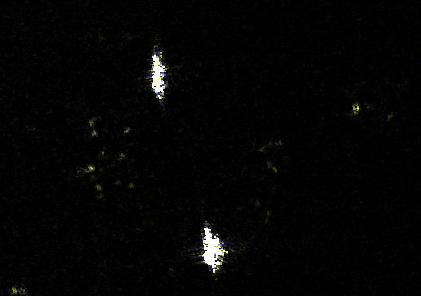ship: (198, 227, 229, 273), (148, 54, 172, 101)
